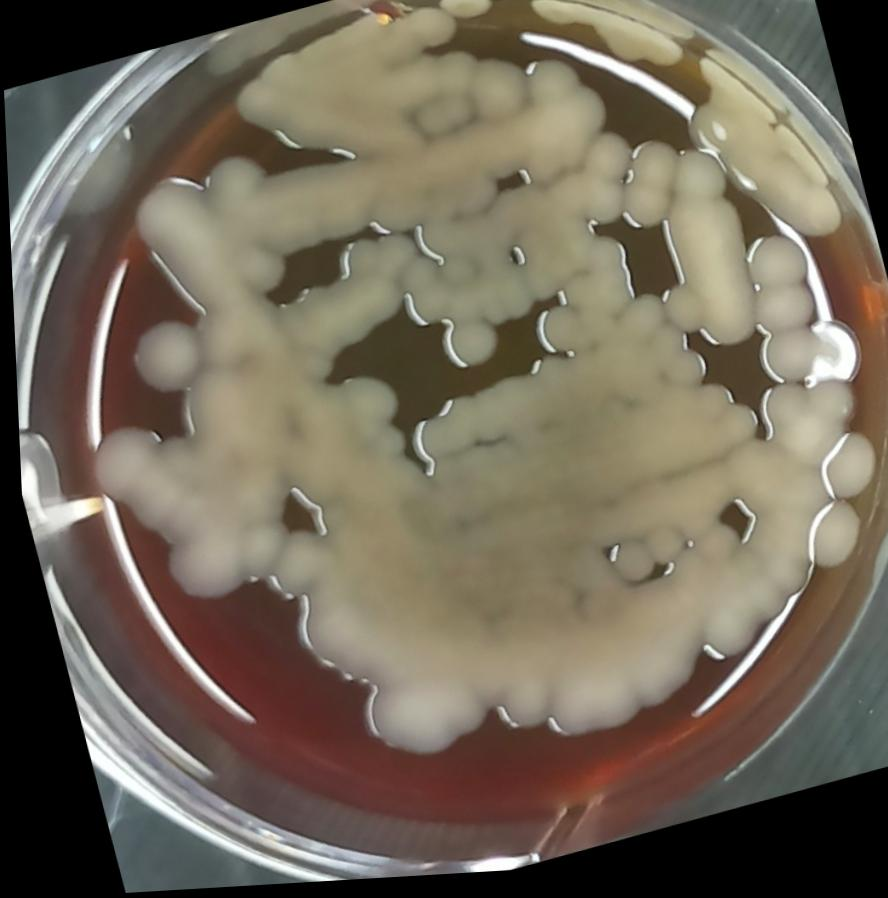ahydrophila: (67, 385, 296, 621), (188, 112, 419, 303), (620, 141, 770, 374), (339, 655, 489, 784), (393, 369, 552, 475), (143, 511, 253, 624), (563, 133, 648, 240), (119, 310, 209, 408), (802, 432, 882, 519), (376, 0, 462, 73), (745, 330, 829, 402), (735, 233, 809, 309), (428, 314, 503, 386), (516, 302, 586, 370), (592, 541, 653, 599)
